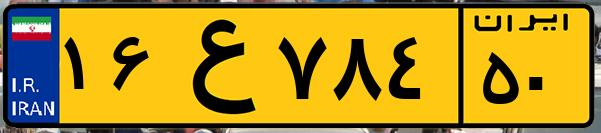0: (525, 38, 570, 115)
1: (57, 26, 110, 100)
4: (385, 28, 445, 110)
5: (475, 38, 525, 113)
6: (110, 28, 158, 98)
7: (270, 28, 330, 110)
8: (330, 28, 385, 110)
ع: (158, 12, 270, 120)
